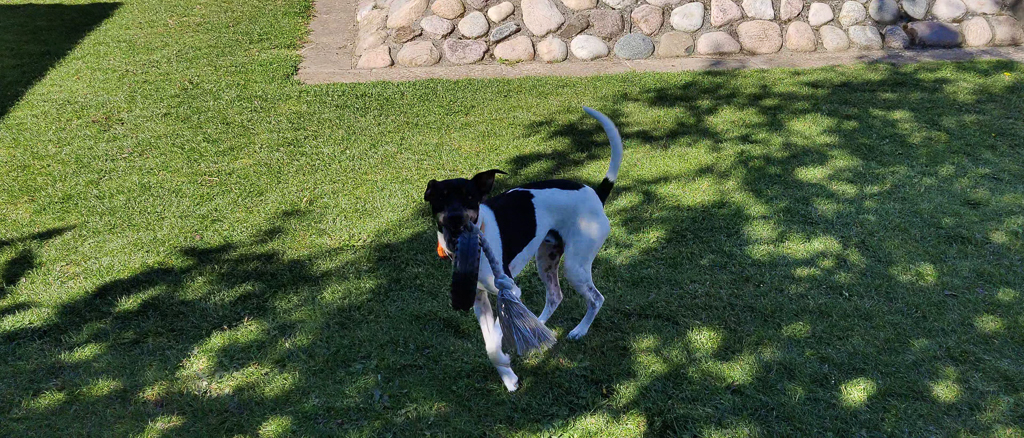Dog: (407, 96, 635, 403)
